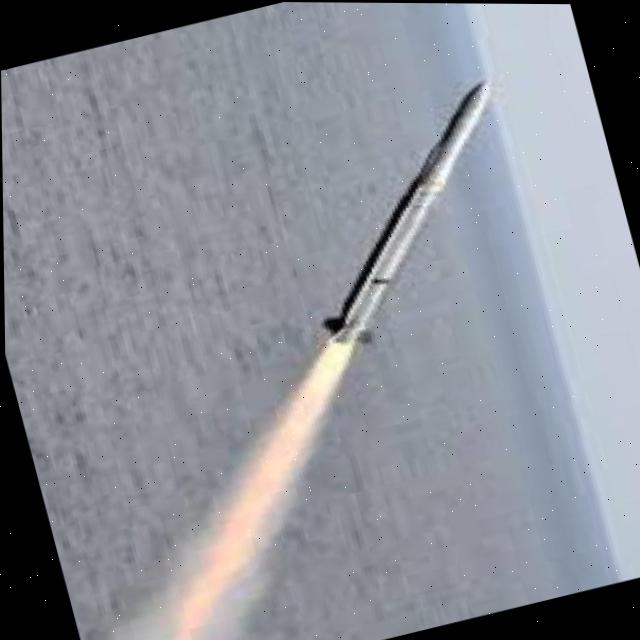missile: (270, 77, 544, 354)
